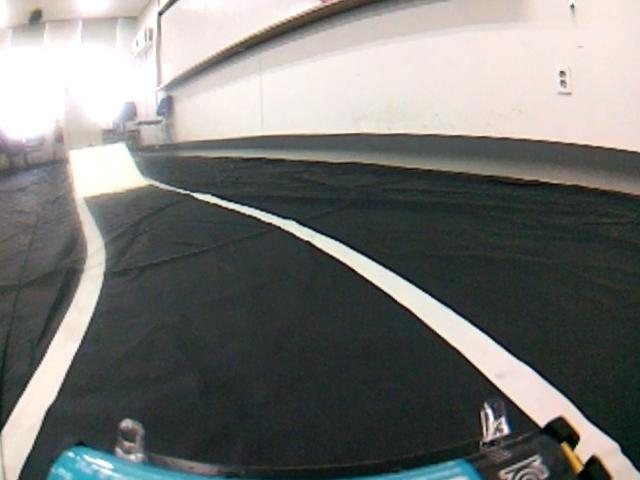hill_up: (65, 139, 151, 201)
left: (2, 217, 639, 480)
